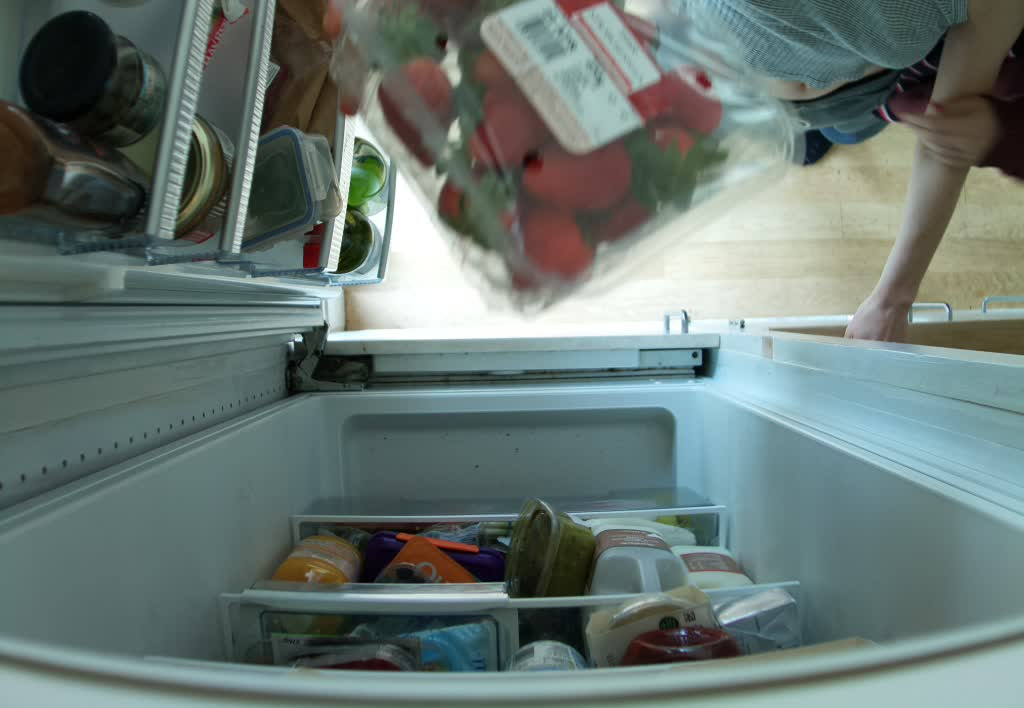soft-fruit: (324, 1, 805, 319)
